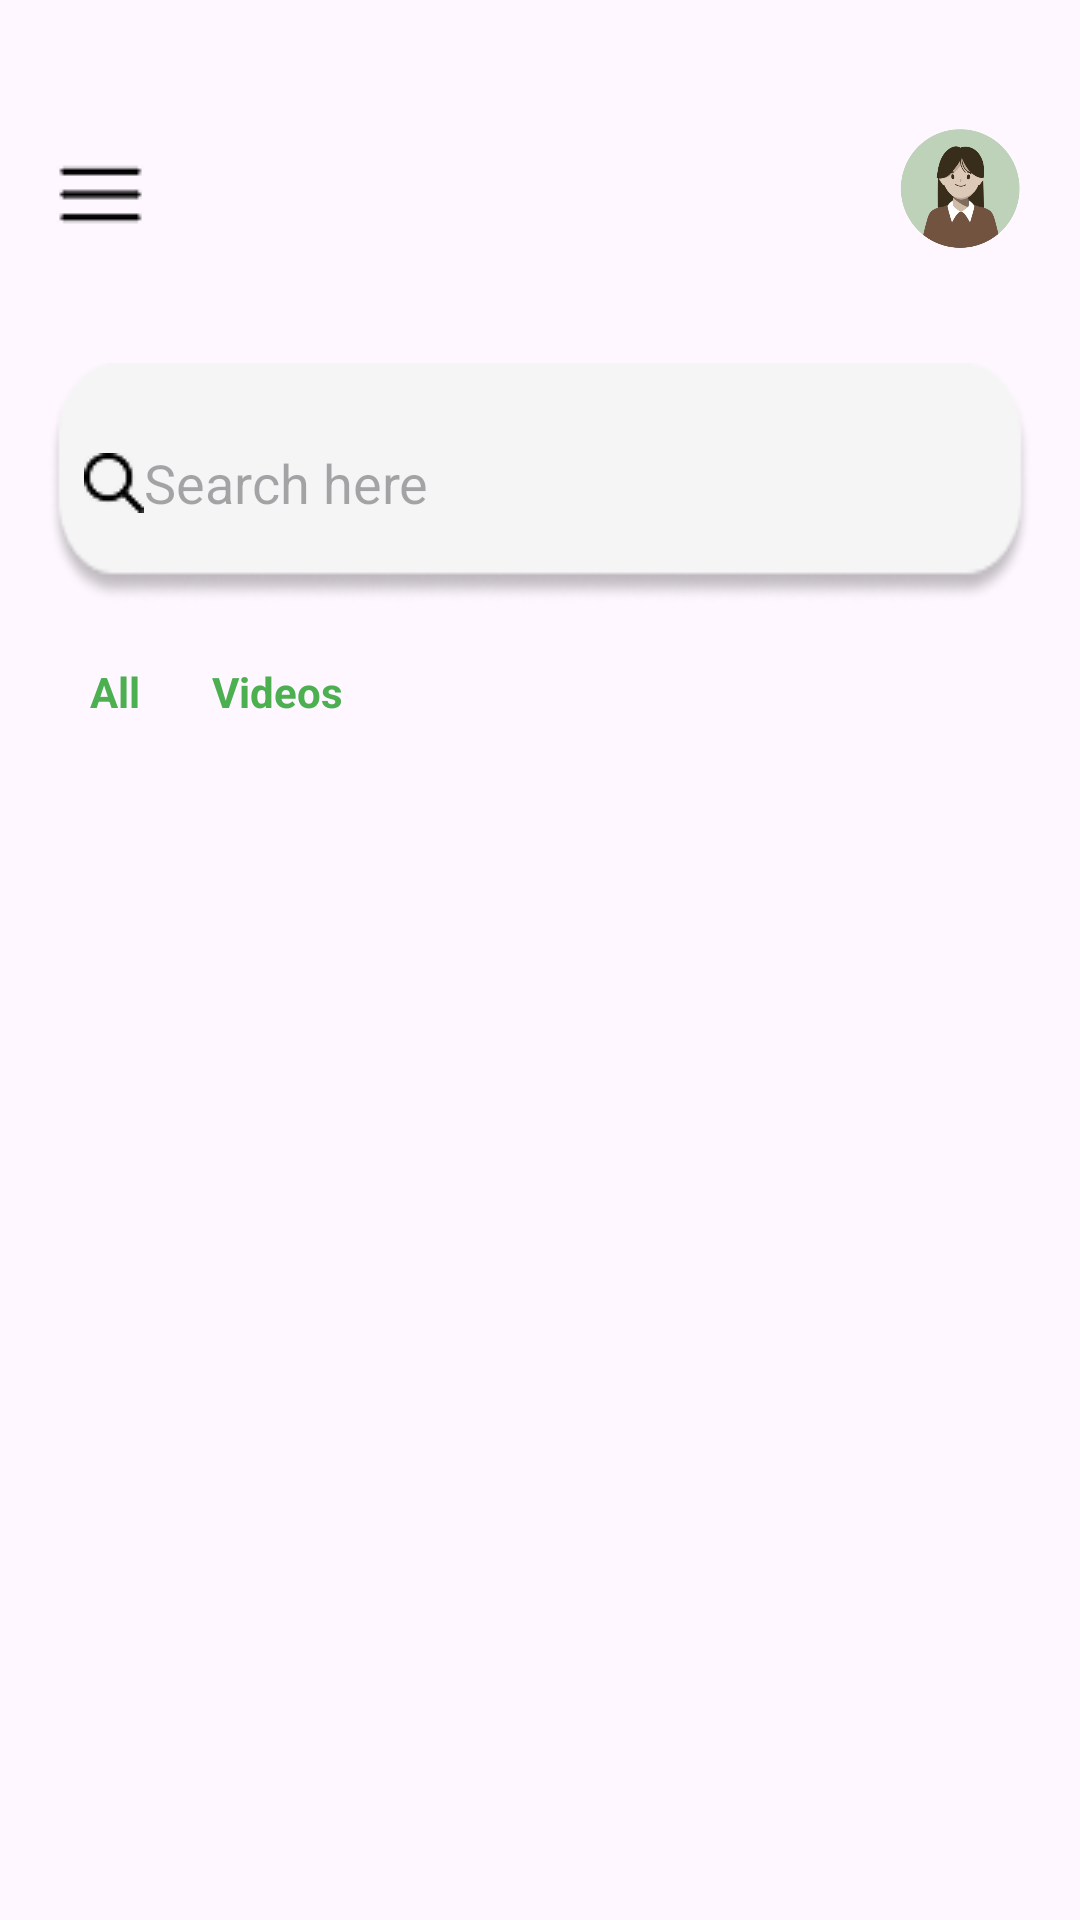

Icon bounding boxes for this 1080 × 1920 phone screenshot, format Rect(x1, y1, x2, y2):
menu: Rect(59, 166, 142, 223)
profile: Rect(901, 129, 1020, 248)
